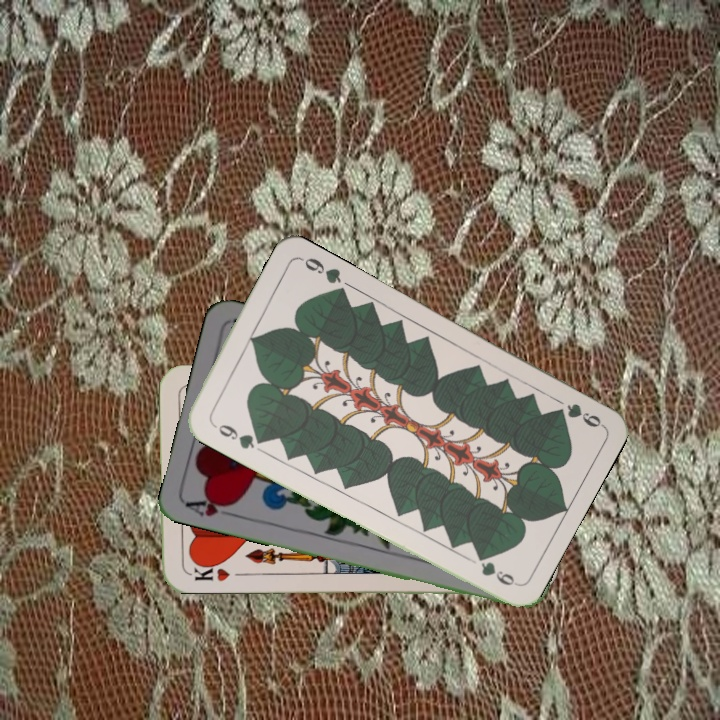G9: (207, 418, 264, 452), (550, 399, 604, 430)
HA: (182, 493, 241, 520)
HK: (183, 558, 232, 584)
